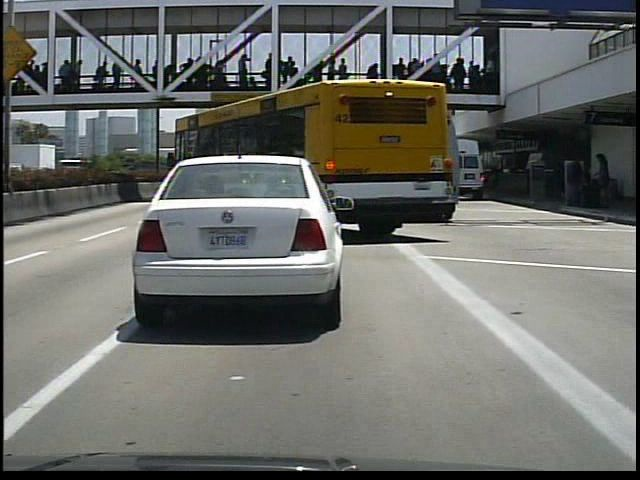person: (593, 149, 621, 213), (564, 150, 593, 211)
